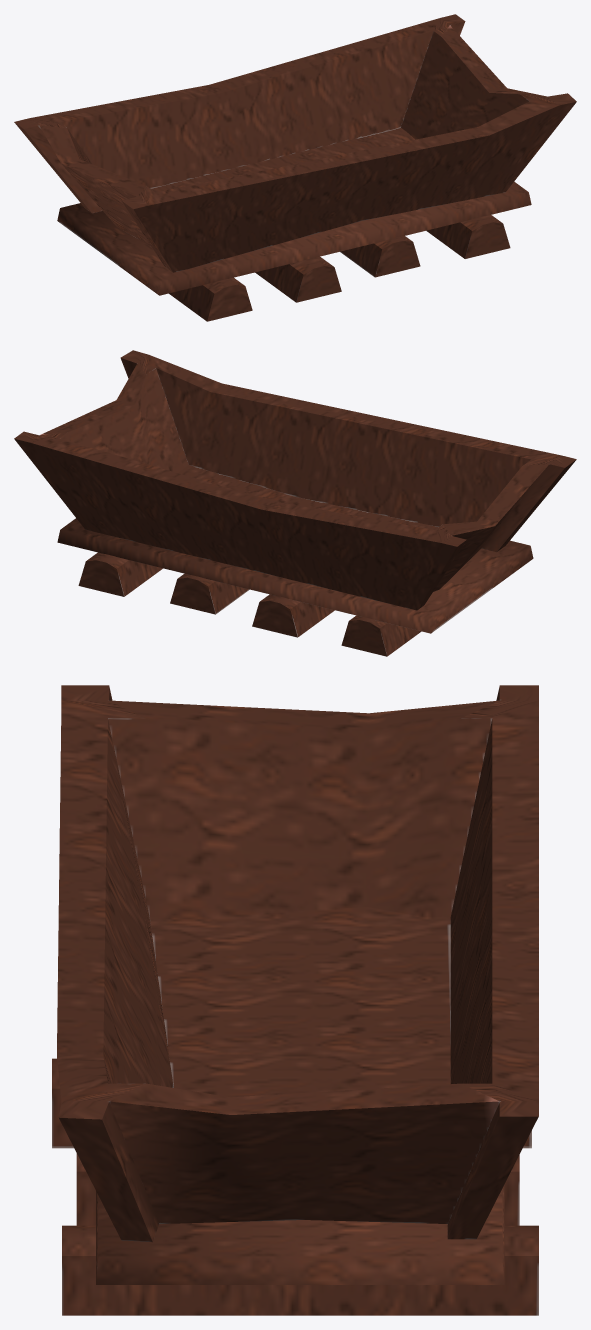
Rendered from Bebedouro_Cavalo.glb.
3 views of the same model, one above another, from view 1: azimuth 30°, elevation 25°; view 2: azimuth 150°, elevation 25°; view 3: azimuth 270°, elevation 25° (orthographic). The views are drawn at different scales.
Parts seen in each view (by area): view 1: Bebedouro.Cavalo; view 2: Bebedouro.Cavalo; view 3: Bebedouro.Cavalo.
Boxes of the visible parts, bbox=[...] form: Bebedouro.Cavalo: bbox=[14, 14, 576, 321]; Bebedouro.Cavalo: bbox=[14, 350, 576, 656]; Bebedouro.Cavalo: bbox=[52, 685, 538, 1315].
Size of the model in its own units: 2.63 by 0.7393 by 1.25.
1 material, 1 textured.
